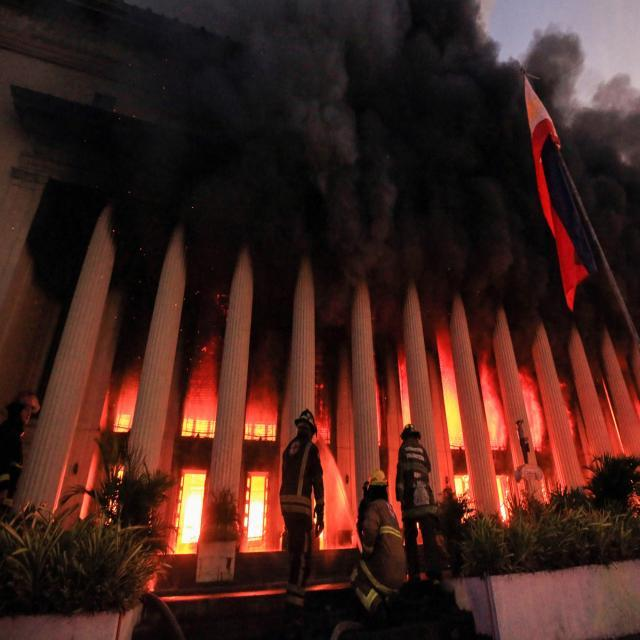Fire: (173, 459, 209, 553), (234, 468, 274, 544), (436, 373, 468, 448), (180, 409, 224, 446), (492, 489, 514, 528), (243, 420, 280, 442), (108, 408, 136, 437), (453, 472, 474, 502)
Smoke: (182, 0, 640, 315)
